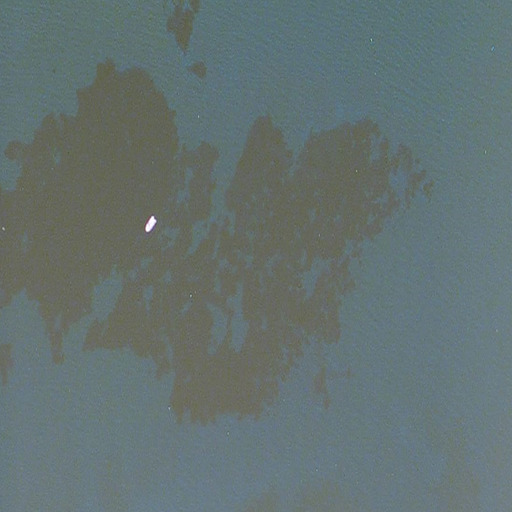ship: (144, 216, 158, 235)
